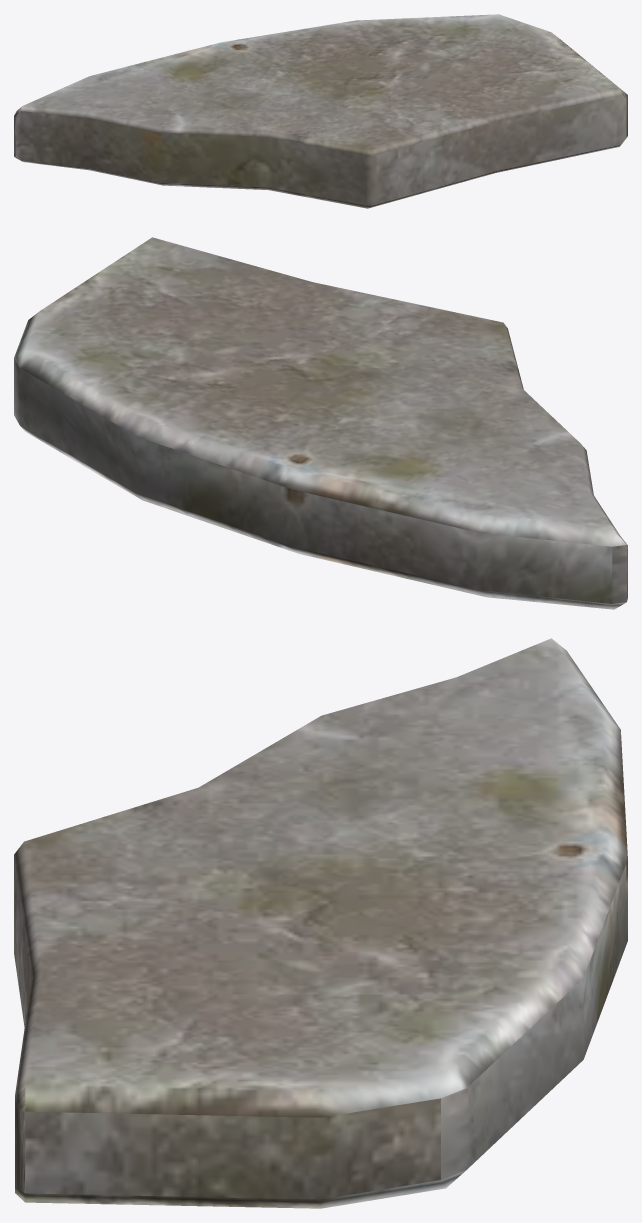
3 views of the same model, one above another, from view 1: azimuth 30°, elevation 25°; view 2: azimuth 150°, elevation 25°; view 3: azimuth 270°, elevation 25° (orthographic). The views are drawn at different scales.
Parts seen in each view (by area): view 1: SM_DR_Flagstone_03_V3_LOD0; view 2: SM_DR_Flagstone_03_V3_LOD0; view 3: SM_DR_Flagstone_03_V3_LOD0.
Boxes of the visible parts, <box> form: SM_DR_Flagstone_03_V3_LOD0: <box>14,14,627,208</box>; SM_DR_Flagstone_03_V3_LOD0: <box>14,237,627,609</box>; SM_DR_Flagstone_03_V3_LOD0: <box>14,638,627,1208</box>.
Bounding box in the file's own units: 0.8706 × 0.1 × 0.4773.
Materials: 1 (1 with a texture image).
